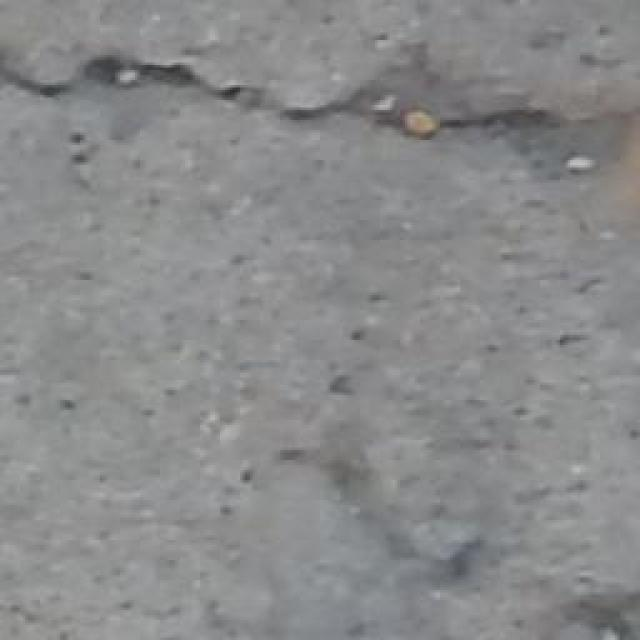concrete-crack: (4, 41, 587, 159)
